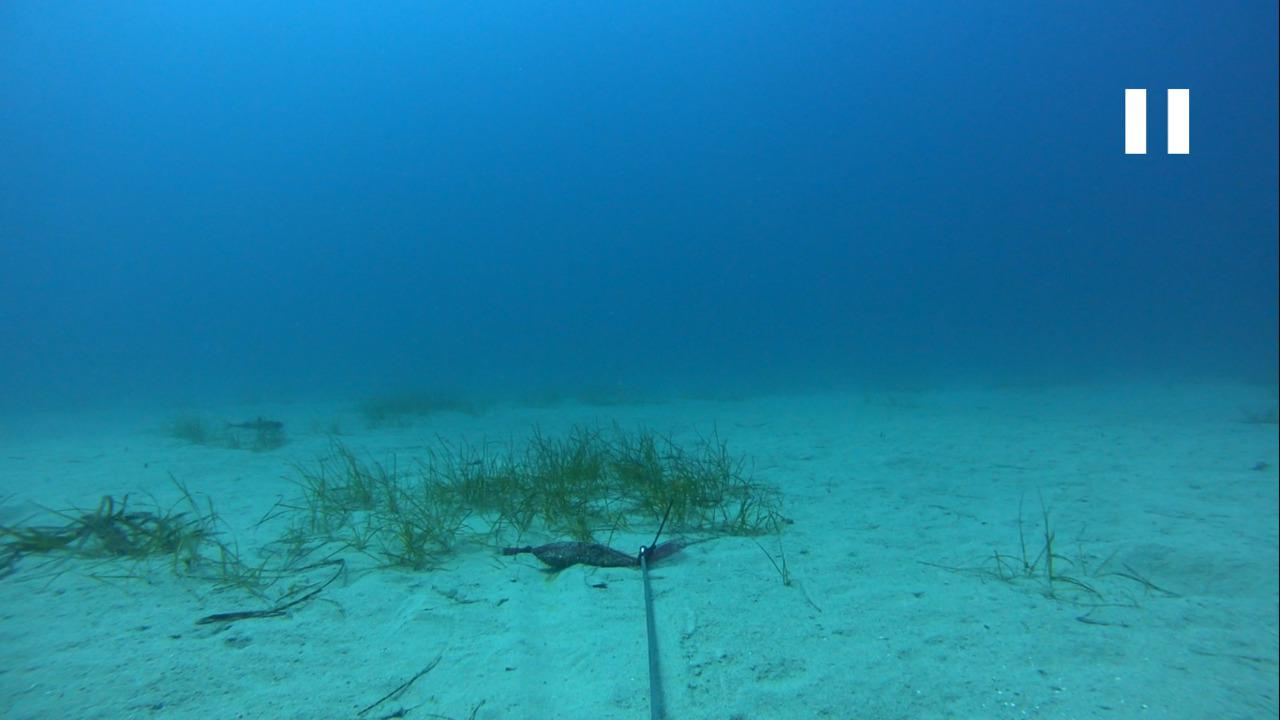dactylopterus: (216, 407, 294, 438)
